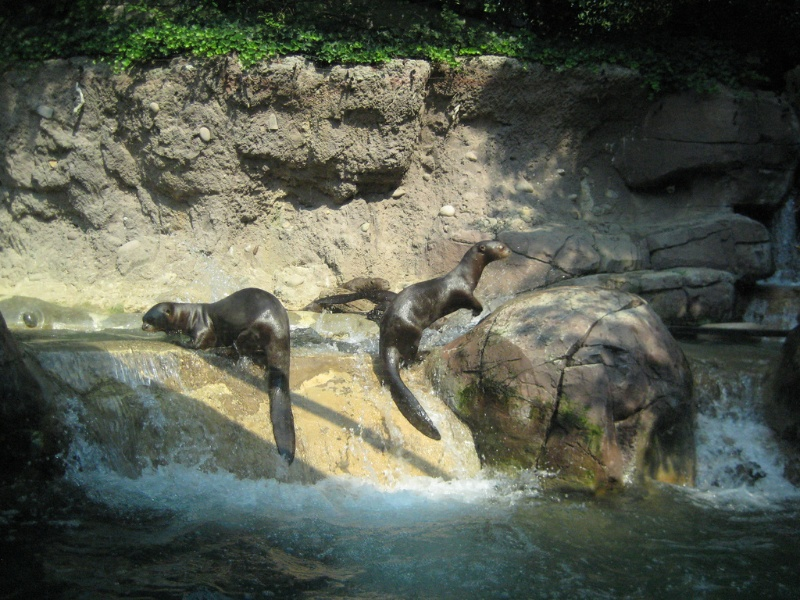minkish: (144, 286, 301, 468), (379, 240, 514, 440)
